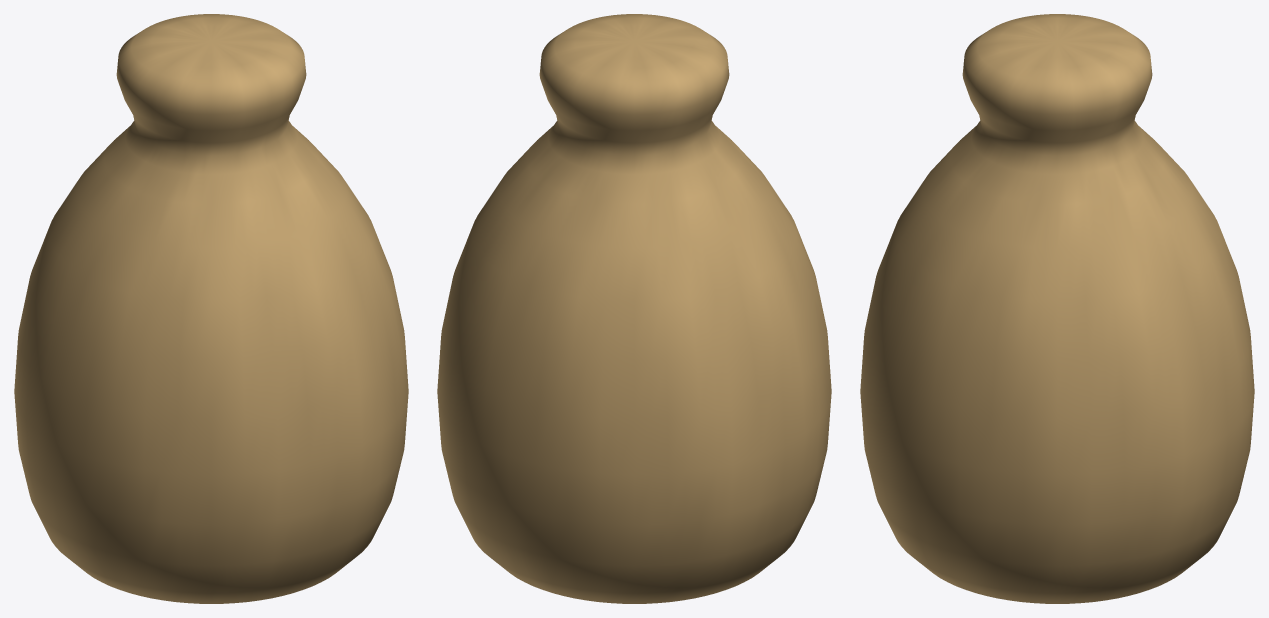
File: prop_bolsa.glb
3 renders of one model, left to right at view 1: azimuth 30°, elevation 25°; view 2: azimuth 150°, elevation 25°; view 3: azimuth 270°, elevation 25°, orthographic.
Visible parts, largest first — view 1: prop_bolsa; view 2: prop_bolsa; view 3: prop_bolsa.
Part boxes in pixels (x1,y1,x2,y2): prop_bolsa: [14, 14, 408, 603]; prop_bolsa: [437, 14, 831, 603]; prop_bolsa: [860, 14, 1254, 603].
Size of the model in its own units: 0.3263 by 0.47 by 0.3263.
